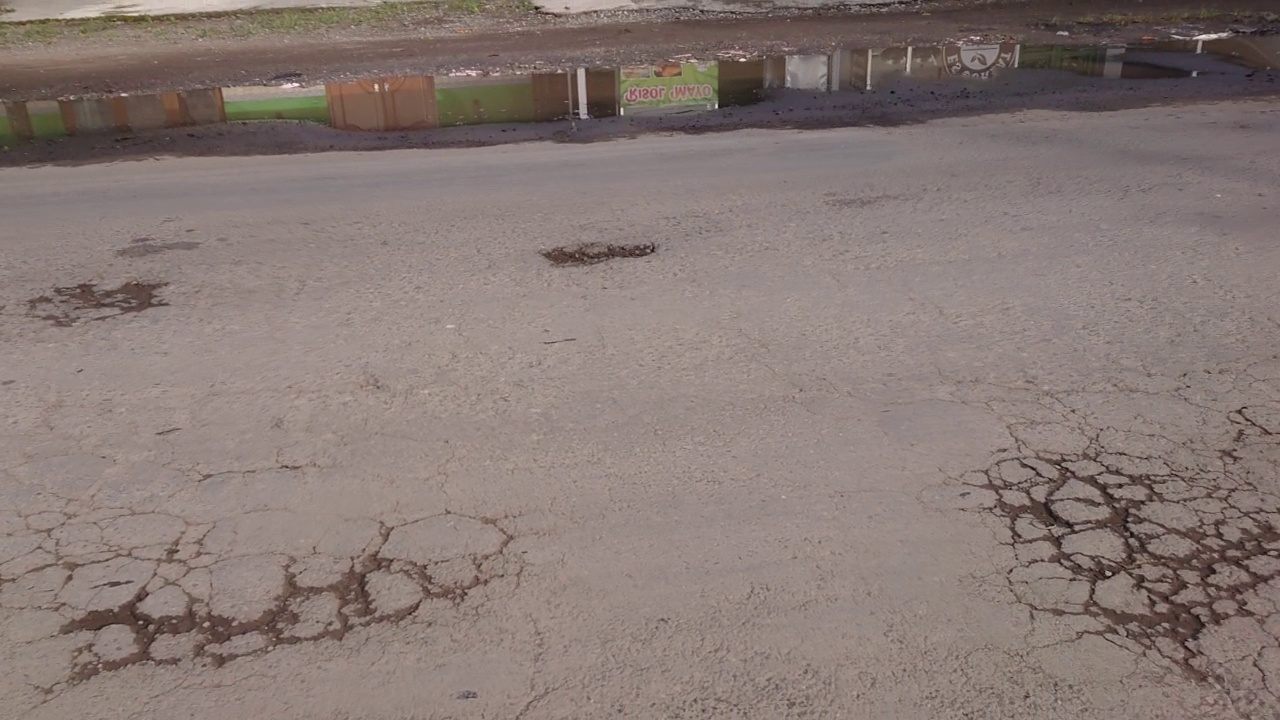Retak: (971, 432, 1280, 720), (53, 523, 500, 676), (31, 285, 163, 341), (531, 245, 656, 265)
